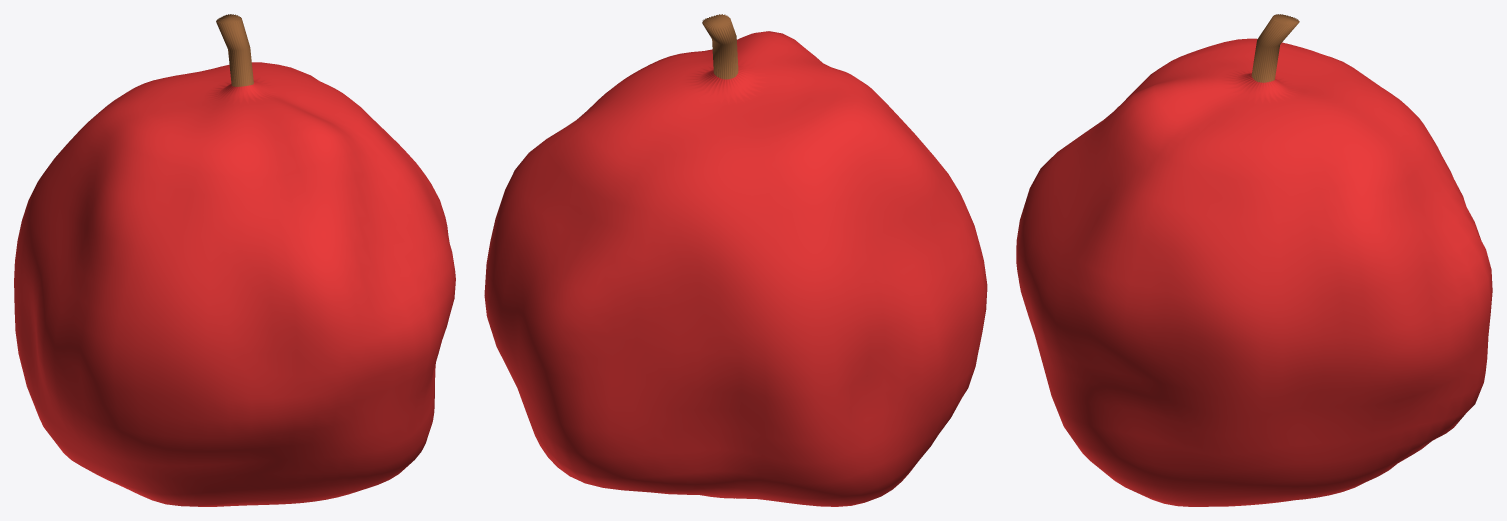
File: Pommate.fbx
3 views of the same model, side by side, from view 1: azimuth 30°, elevation 25°; view 2: azimuth 150°, elevation 25°; view 3: azimuth 270°, elevation 25° (orthographic). The views are drawn at different scales.
Visible parts, largest first — view 1: Sphere; view 2: Sphere; view 3: Sphere.
Part boxes in pixels (box(x1,y1,x2,y2)): Sphere: box(14, 14, 455, 506); Sphere: box(484, 14, 987, 506); Sphere: box(1016, 14, 1492, 506).
Bounding box in the file's own units: 224 × 243 × 237.
